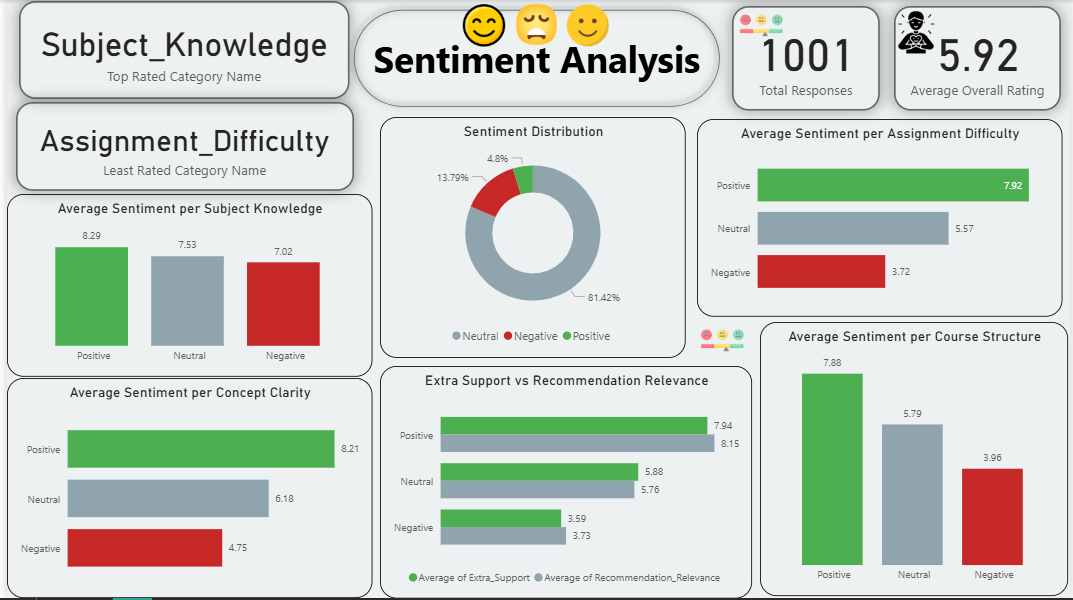

The dashboard page shown, as its layout file describes it:
{"tool":"powerbi","page":{"name":"Sentiment Analysis","canvas":[1280,720],"ordinal":0},"visuals":[{"type":"card","fields":{"Values":["student_feedback.Top Rated Category Name"]},"box":[14.3,1.4,398.1,118.4],"z":0},{"type":"card","fields":{"Values":["student_feedback.Least Rated Category Name"]},"box":[11.4,122.7,406.7,107],"z":1000},{"type":"card","fields":{"Values":["student_feedback.Average Overall Rating"]},"box":[1067.4,7.1,201.2,125.6],"z":2000},{"type":"card","fields":{"Values":["student_feedback.Total Responses"]},"box":[873.3,7.1,178.4,125.6],"z":3000},{"type":"clusteredColumnChart","title":"Average Sentiment per Subject Knowledge","fields":{"Category":["student_feedback.Sentiment"],"Y":["Avg(student_feedback.Subject_Knowledge)"]},"box":[0,234,439.5,219.8],"z":4000},{"type":"clusteredColumnChart","title":"Average Sentiment per Course Structure","fields":{"Y":["Avg(student_feedback.Course_Structure)"],"Category":["student_feedback.Sentiment"]},"box":[906.1,388.1,371,329.6],"z":5000},{"type":"clusteredBarChart","title":"Average Sentiment per Assignment Difficulty","fields":{"Category":["student_feedback.Sentiment"],"Y":["Avg(student_feedback.Assignment_Difficulty)"]},"box":[830.5,142.7,439.5,238.3],"z":6000},{"type":"clusteredBarChart","title":"Average Sentiment per Concept Clarity","fields":{"Category":["student_feedback.Sentiment"],"Y":["Avg(student_feedback.Concept_Clarity)"]},"box":[0,454.6,439.5,265.4],"z":7000},{"type":"clusteredBarChart","title":"Extra Support vs Recommendation Relevance","fields":{"Category":["student_feedback.Sentiment"],"Y":["Avg(student_feedback.Extra_Support)","Avg(student_feedback.Recommendation_Relevance)"]},"box":[449.5,440.9,448.1,279.7],"z":8000},{"type":"donutChart","title":"Sentiment Distribution","fields":{"Category":["student_feedback.Sentiment"],"Y":["CountNonNull(student_feedback.Student_ID)"]},"box":[449.5,141.3,368.2,289.7],"z":9000},{"type":"shape","box":[408.1,2.9,459.5,135.6],"z":10000},{"type":"image","box":[853.3,0,109.9,61.4],"z":11000},{"type":"image","box":[1064.5,8.6,61.4,61.4],"z":12000},{"type":"image","box":[542.3,0,65.6,61.4],"z":13000},{"type":"image","box":[666.4,0,67.1,61.4],"z":14000},{"type":"image","box":[607.9,0,58.5,58.5],"z":15000},{"type":"image","box":[806.2,379.6,109.9,61.4],"z":16000}]}

Visuals, with their boxes in screenshot pixels (x1, y1, x2, y2), scaled from the page's 1280x720 canvas onto the 1073x600 screenshot:
card - student_feedback.Top Rated Category Name: (12,1,346,100)
card - student_feedback.Least Rated Category Name: (10,102,350,191)
card - student_feedback.Average Overall Rating: (895,6,1063,111)
card - student_feedback.Total Responses: (732,6,882,111)
"Average Sentiment per Subject Knowledge" clusteredColumnChart: (0,195,368,378)
"Average Sentiment per Course Structure" clusteredColumnChart: (760,323,1071,598)
"Average Sentiment per Assignment Difficulty" clusteredBarChart: (696,119,1065,318)
"Average Sentiment per Concept Clarity" clusteredBarChart: (0,379,368,599)
"Extra Support vs Recommendation Relevance" clusteredBarChart: (377,367,752,599)
"Sentiment Distribution" donutChart: (377,118,685,359)
shape: (342,2,727,115)
image: (715,0,807,51)
image: (892,7,944,58)
image: (455,0,510,51)
image: (559,0,615,51)
image: (510,0,559,49)
image: (676,316,768,368)
